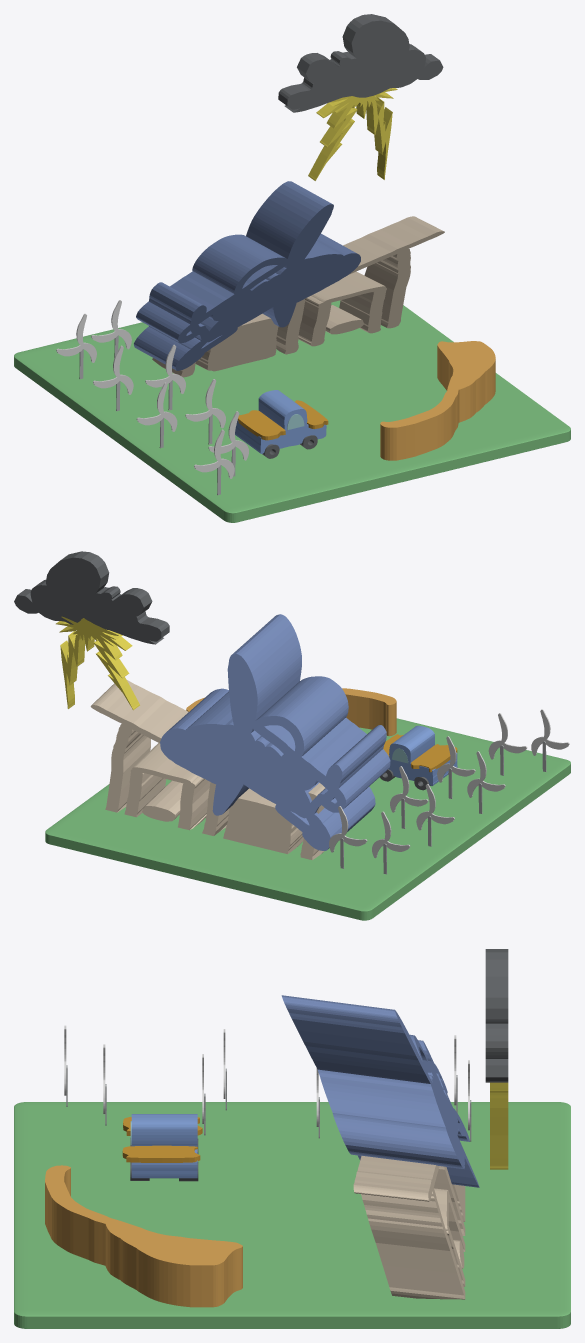
Rendered from Brilliant.glb.
3 renders of one model, top to bottom at view 1: azimuth 30°, elevation 25°; view 2: azimuth 150°, elevation 25°; view 3: azimuth 270°, elevation 25°, orthographic. The views are drawn at different scales.
Parts seen in each view (by area): view 1: Mesh_Mesh_head_geo.001_lambert2SG.001; view 2: Mesh_Mesh_head_geo.001_lambert2SG.001; view 3: Mesh_Mesh_head_geo.001_lambert2SG.001.
Boxes of the visible parts, x1=… form: Mesh_Mesh_head_geo.001_lambert2SG.001: x1=14, y1=14, x2=570, y2=522; Mesh_Mesh_head_geo.001_lambert2SG.001: x1=14, y1=551, x2=570, y2=920; Mesh_Mesh_head_geo.001_lambert2SG.001: x1=14, y1=949, x2=570, y2=1328.
Bounding box in the file's own units: 0.3138 × 0.2084 × 0.2871.
